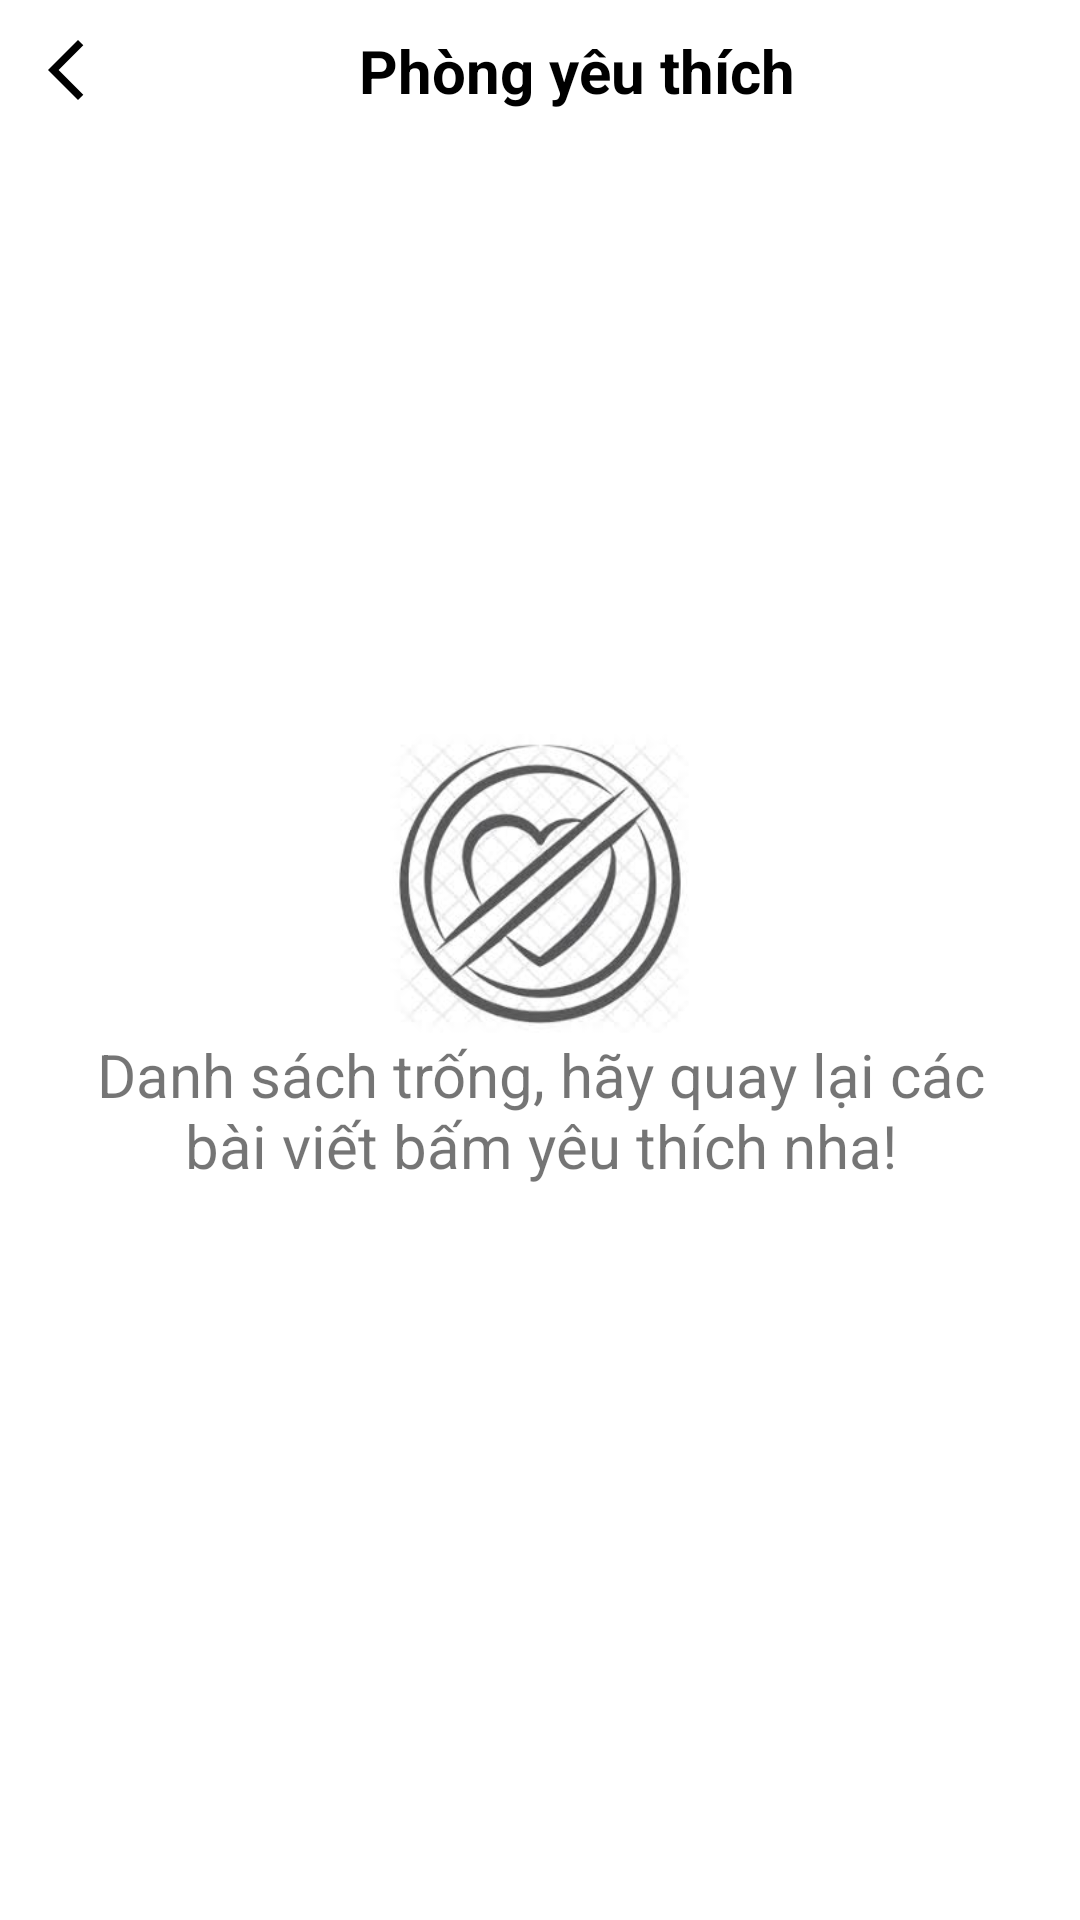

Where icons sit on this 1080 x 1920 app screen, as (x1, y1, x2, y2):
back: (48, 40, 83, 100)
noheart: (399, 745, 681, 1024)
